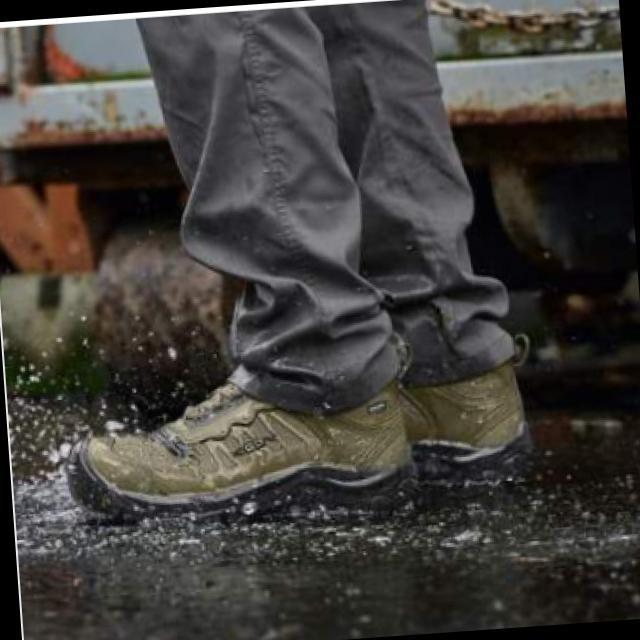shoes: (58, 304, 547, 535)
